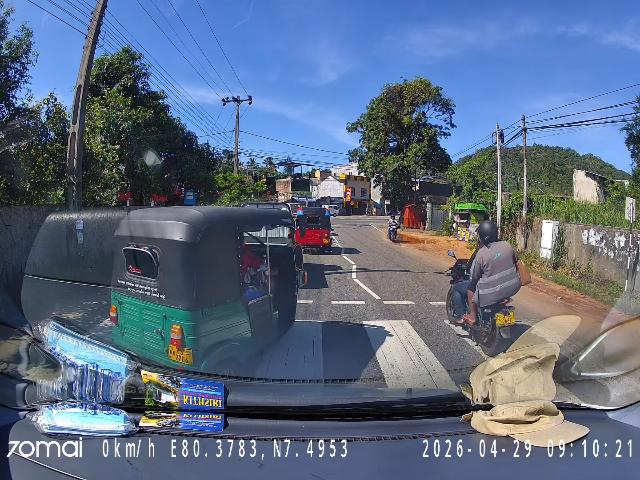illegal overtaking: (109, 201, 303, 351), (439, 222, 518, 351)
number plate: (161, 338, 199, 367), (490, 310, 518, 328)
